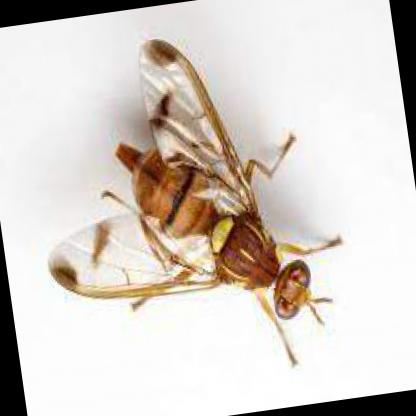fruit fly: (46, 39, 339, 329)
